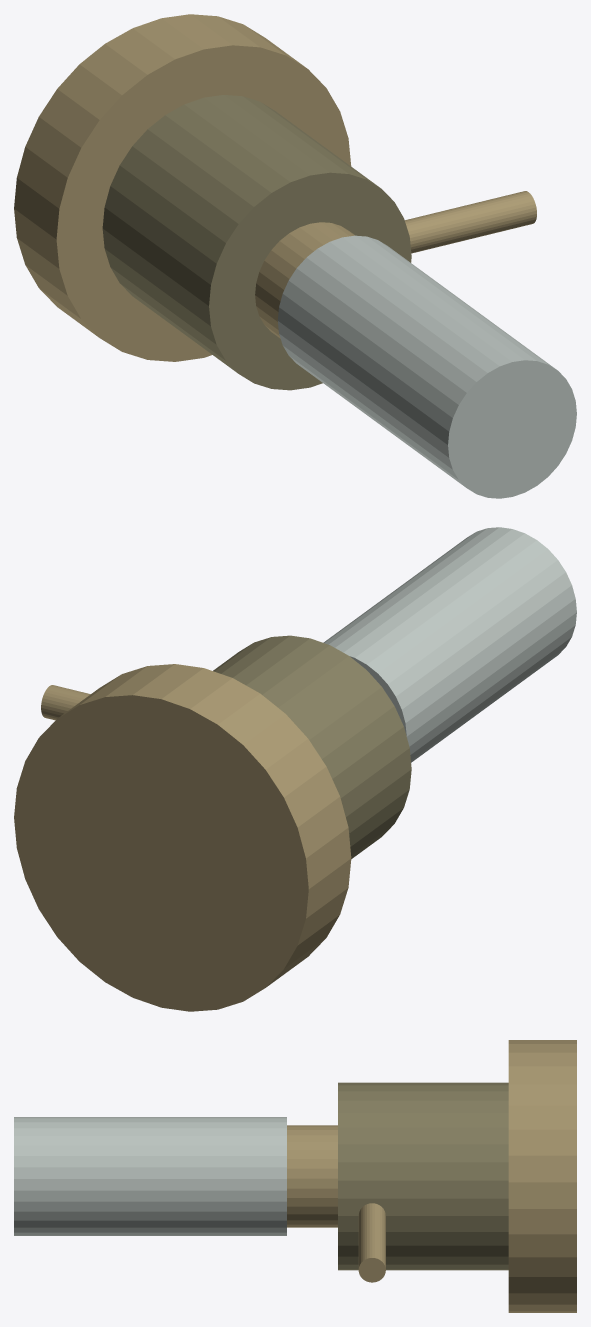
Rendered from oil_lamp.glb.
3 renders of one model, top to bottom at view 1: azimuth 30°, elevation 25°; view 2: azimuth 150°, elevation 25°; view 3: azimuth 270°, elevation 25°, orthographic. The views are drawn at different scales.
Visible parts, largest first — view 1: oil_lamp_font, oil_lamp_chimney, oil_lamp_base, oil_lamp_handle, oil_lamp_burner; view 2: oil_lamp_base, oil_lamp_chimney, oil_lamp_font, oil_lamp_handle; view 3: oil_lamp_chimney, oil_lamp_font, oil_lamp_base, oil_lamp_burner, oil_lamp_handle.
Boxes of the visible parts, x1,y1,x2,y2 form: oil_lamp_font: [102, 95, 411, 390]; oil_lamp_chimney: [277, 235, 576, 498]; oil_lamp_base: [14, 14, 351, 361]; oil_lamp_handle: [405, 191, 536, 253]; oil_lamp_burner: [255, 222, 354, 338]; oil_lamp_base: [14, 664, 351, 1011]; oil_lamp_chimney: [323, 527, 576, 762]; oil_lamp_font: [213, 635, 411, 858]; oil_lamp_handle: [41, 685, 90, 720]; oil_lamp_chimney: [14, 1117, 286, 1235]; oil_lamp_font: [338, 1082, 508, 1270]; oil_lamp_base: [508, 1040, 576, 1312]; oil_lamp_burner: [287, 1125, 337, 1227]; oil_lamp_handle: [358, 1203, 385, 1282].
Size of the model in its own units: 0.21 by 0.16 by 0.33.
